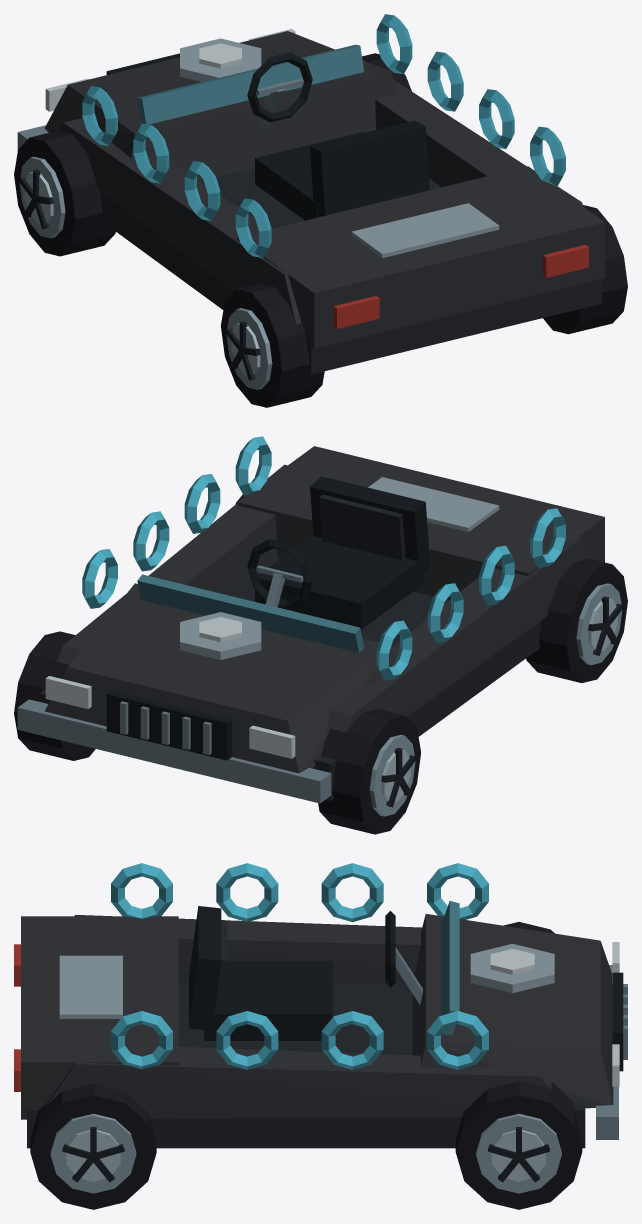
Rendered from kart.glb.
3 views of the same model, one above another, from view 1: azimuth 30°, elevation 25°; view 2: azimuth 150°, elevation 25°; view 3: azimuth 270°, elevation 25° (orthographic). The views are drawn at different scales.
Visible parts, largest first — view 1: identity-sedan-sedan-road-car-body, identity-sedan-driver-cockpit, identity-sedan-motif-water, wheel-front-left, wheel-rear-left, wheel-rear-right, identity-sedan-motif-badge; view 2: identity-sedan-sedan-road-car-body, identity-sedan-driver-cockpit, identity-sedan-motif-water, wheel-front-left, wheel-rear-left, wheel-front-right, identity-sedan-motif-badge; view 3: identity-sedan-sedan-road-car-body, identity-sedan-motif-water, identity-sedan-driver-cockpit, wheel-front-right, wheel-rear-right, identity-sedan-motif-badge.
Boxes of the visible parts, x1=… form: identity-sedan-sedan-road-car-body: x1=17, y1=28, x2=604, y2=374; identity-sedan-driver-cockpit: x1=247, y1=52, x2=429, y2=220; identity-sedan-motif-water: x1=82, y1=14, x2=565, y2=258; wheel-front-left: x1=14, y1=131, x2=115, y2=256; wheel-rear-left: x1=221, y1=283, x2=324, y2=407; wheel-rear-right: x1=543, y1=205, x2=627, y2=334; identity-sedan-motif-badge: x1=180, y1=38, x2=261, y2=81; identity-sedan-sedan-road-car-body: x1=17, y1=446, x2=604, y2=803; identity-sedan-driver-cockpit: x1=247, y1=476, x2=430, y2=629; identity-sedan-motif-water: x1=82, y1=436, x2=565, y2=680; wheel-front-left: x1=318, y1=709, x2=420, y2=834; wheel-rear-left: x1=526, y1=559, x2=627, y2=682; wheel-front-right: x1=14, y1=631, x2=95, y2=760; identity-sedan-motif-badge: x1=180, y1=612, x2=261, y2=659; identity-sedan-sedan-road-car-body: x1=14, y1=901, x2=627, y2=1148; identity-sedan-motif-water: x1=111, y1=863, x2=488, y2=1069; identity-sedan-driver-cockpit: x1=189, y1=906, x2=422, y2=1040; wheel-front-right: x1=455, y1=1081, x2=582, y2=1209; wheel-rear-right: x1=30, y1=1083, x2=156, y2=1209; identity-sedan-motif-badge: x1=470, y1=943, x2=554, y2=993.
Size of the model in its own units: 2.07 by 1.09 by 2.92.
